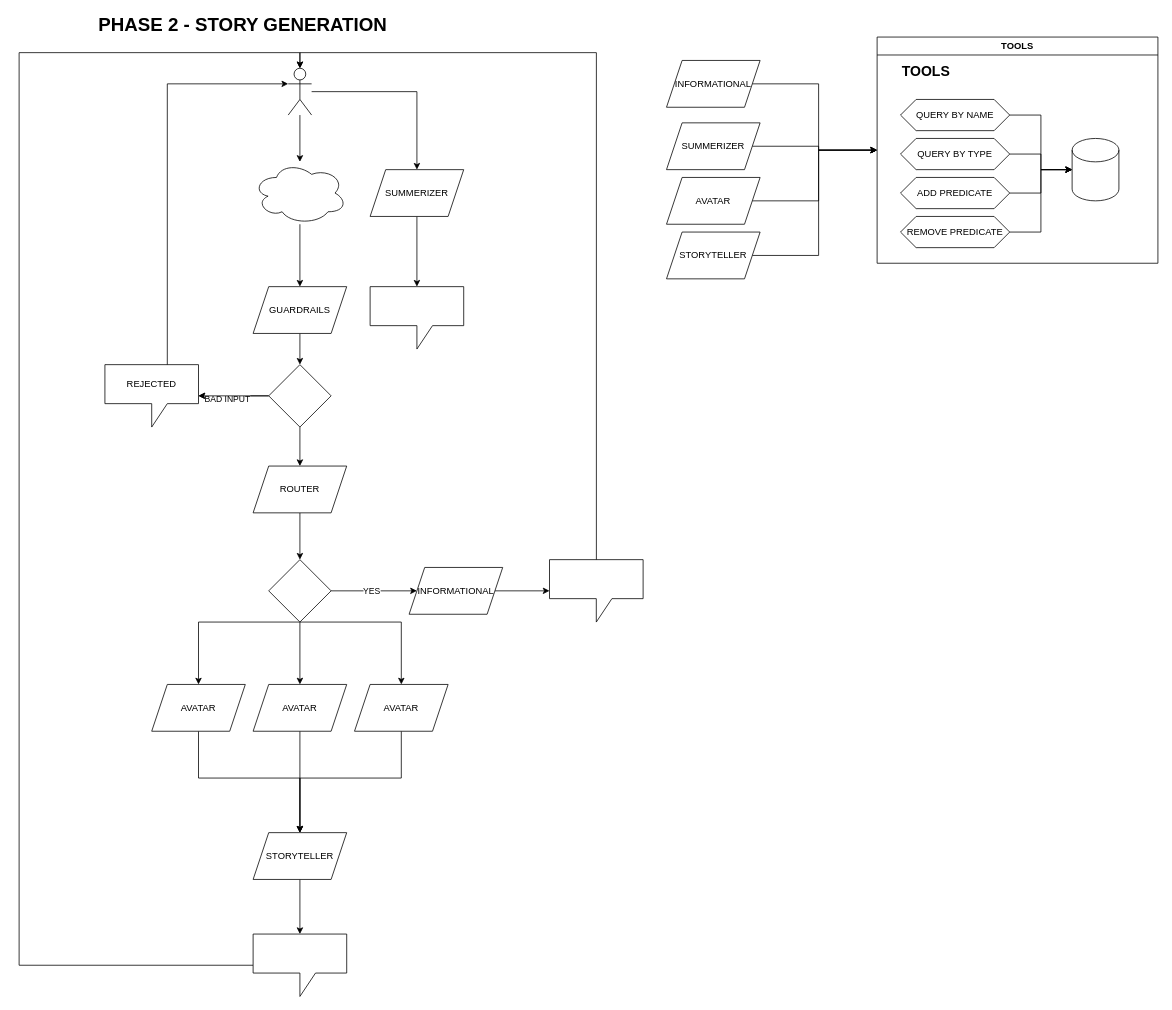
This 1172x1010 diagram has some shape labels left out. Here are the shapes that lost their labels. From the top down, the box of each, then its label:
(287, 67, 312, 115): Actor
(1071, 138, 1119, 201): GRAPHDB
(252, 161, 347, 224): INPUT
(369, 286, 464, 349): OUTPUT
(268, 364, 331, 427): INPUT OK?
(268, 559, 331, 622): IS QUESTION?
(549, 559, 643, 622): ANSWER
(252, 933, 347, 996): STORY UPDATE
